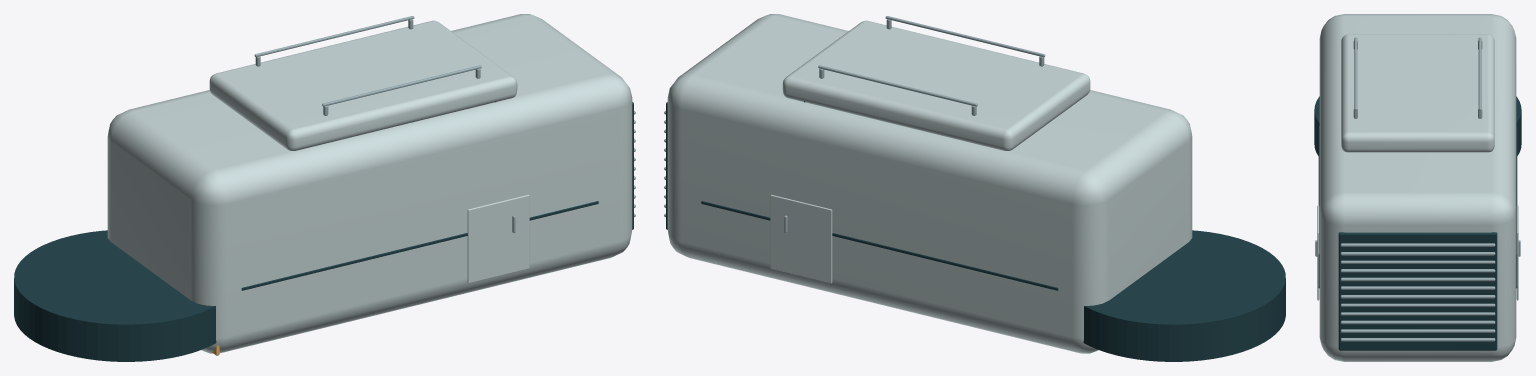
File: nacelle-skin.glb
3 views of the same model, side by side, from view 1: azimuth 30°, elevation 25°; view 2: azimuth 150°, elevation 25°; view 3: azimuth 270°, elevation 25° (orthographic). The views are drawn at different scales.
Visible parts, largest first — view 1: Nacelle aerodynamic casing, Raised service fairing, Yaw bearing illustrative, Access hatch -1, Longitudinal panel seam -1, Roof service rail, Roof service rail.001; view 2: Nacelle aerodynamic casing, Raised service fairing, Yaw bearing illustrative, Access hatch 1, Longitudinal panel seam 1, Roof service rail, Roof service rail.001; view 3: Nacelle aerodynamic casing, Raised service fairing, Rear cooling screen, Cooling louvre 02, Cooling louvre 07, Cooling louvre 00, Cooling louvre 01, Cooling louvre 03, Cooling louvre 04, Cooling louvre 05, Cooling louvre 06, Cooling louvre 08 (+10 smaller).
Part boxes in pixels (left/top/right/bottom): Nacelle aerodynamic casing: left=107, top=14, right=632, bottom=353; Raised service fairing: left=209, top=20, right=517, bottom=150; Yaw bearing illustrative: left=14, top=230, right=216, bottom=361; Access hatch -1: left=467, top=194, right=529, bottom=283; Longitudinal panel seam -1: left=241, top=201, right=598, bottom=290; Roof service rail: left=322, top=65, right=481, bottom=106; Roof service rail.001: left=254, top=16, right=414, bottom=57; Nacelle aerodynamic casing: left=667, top=14, right=1192, bottom=353; Raised service fairing: left=782, top=20, right=1090, bottom=150; Yaw bearing illustrative: left=1083, top=230, right=1285, bottom=361; Access hatch 1: left=770, top=194, right=832, bottom=283; Longitudinal panel seam 1: left=701, top=201, right=1058, bottom=290; Roof service rail: left=885, top=16, right=1045, bottom=57; Roof service rail.001: left=818, top=65, right=977, bottom=106; Nacelle aerodynamic casing: left=1319, top=14, right=1516, bottom=361; Raised service fairing: left=1341, top=34, right=1494, bottom=152; Rear cooling screen: left=1338, top=232, right=1497, bottom=350; Cooling louvre 02: left=1340, top=320, right=1495, bottom=324; Cooling louvre 07: left=1340, top=277, right=1495, bottom=281; Cooling louvre 00: left=1340, top=338, right=1495, bottom=341; Cooling louvre 01: left=1340, top=329, right=1495, bottom=332; Cooling louvre 03: left=1340, top=312, right=1495, bottom=315; Cooling louvre 04: left=1340, top=303, right=1495, bottom=306; Cooling louvre 05: left=1340, top=295, right=1495, bottom=298; Cooling louvre 06: left=1340, top=286, right=1495, bottom=289; Cooling louvre 08: left=1340, top=269, right=1495, bottom=272.
Size of the model in its own units: 17.42 by 6.34 by 6.
